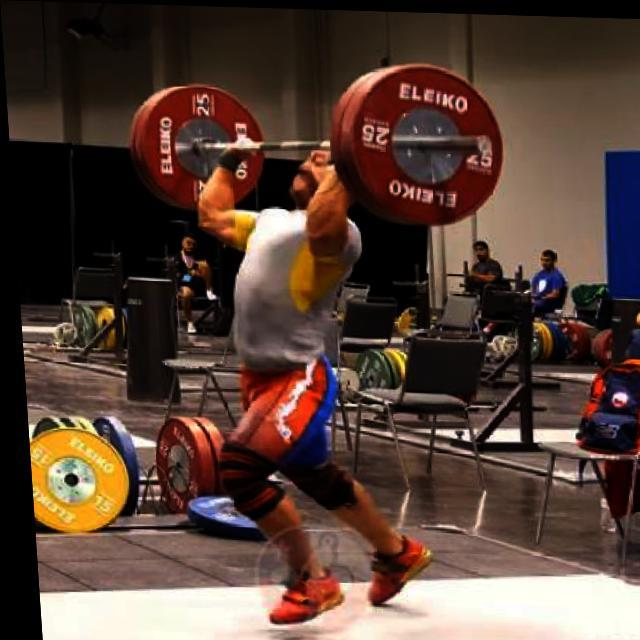barbell: (338, 56, 509, 227)
